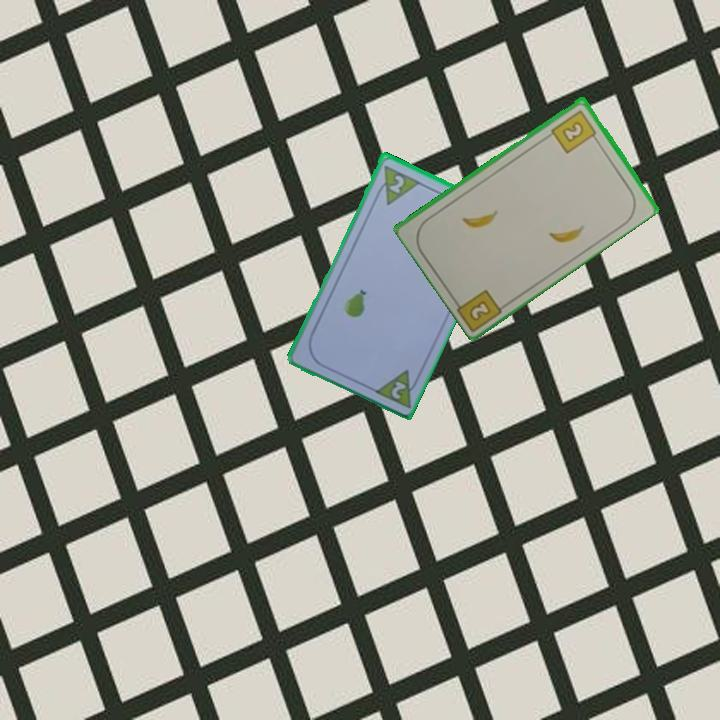2b: (548, 106, 601, 156), (466, 296, 494, 324)
2p: (385, 171, 407, 196), (387, 377, 409, 402)
